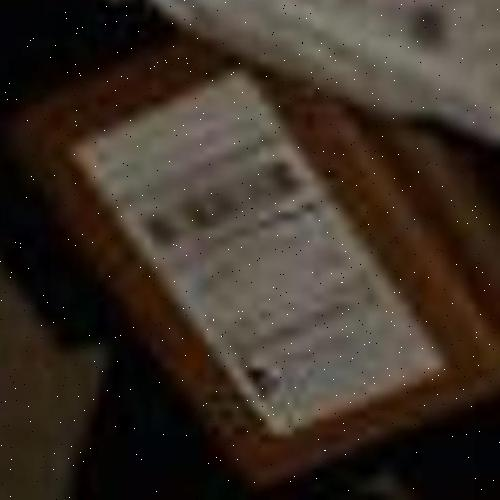Other: (15, 28, 500, 481)
